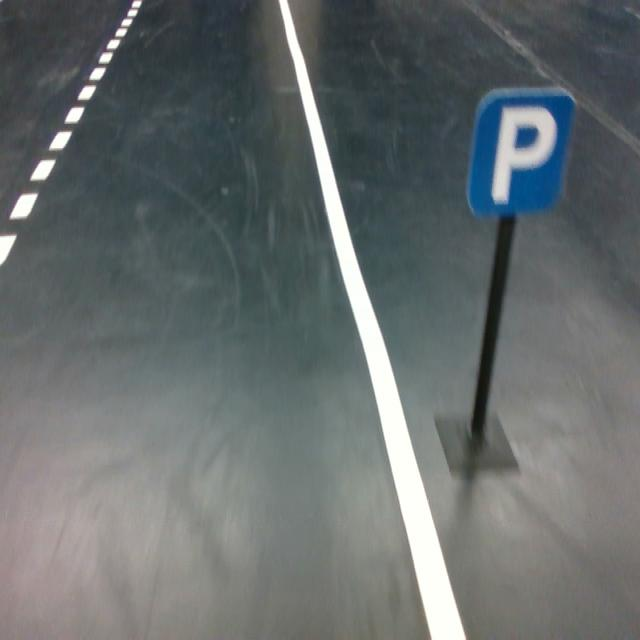parking-sign: (465, 84, 576, 218)
